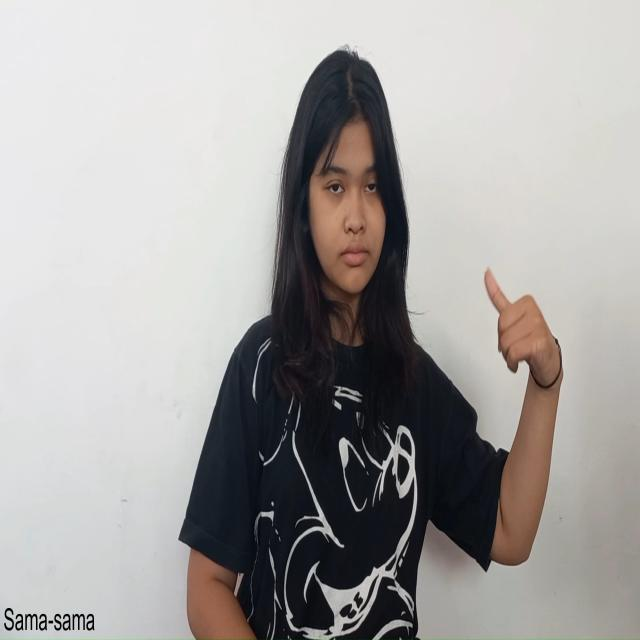Sama-sama -BISINDO-: (482, 264, 564, 394)
